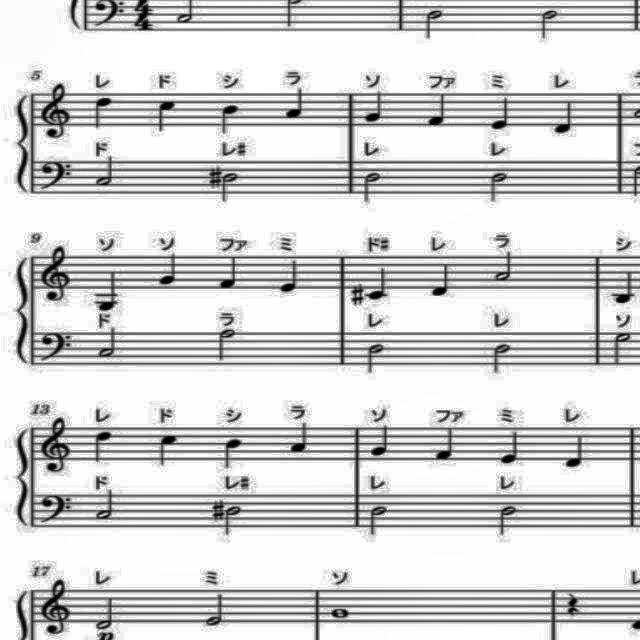Bass-clef: (33, 328, 79, 372), (32, 488, 76, 532), (40, 151, 80, 195)
Diez: (205, 161, 222, 191), (211, 496, 227, 526), (348, 284, 366, 308)
Full-note: (330, 604, 350, 624)
Half-note: (490, 245, 520, 287), (92, 488, 124, 526), (362, 500, 394, 538), (90, 592, 122, 630), (494, 500, 524, 540), (484, 168, 514, 206), (91, 323, 119, 362), (605, 330, 635, 366), (536, 5, 566, 40), (204, 592, 233, 628), (422, 6, 451, 42), (214, 324, 238, 364), (91, 152, 117, 188), (488, 337, 512, 375), (216, 166, 240, 202), (366, 341, 388, 379), (362, 168, 383, 204), (224, 501, 240, 541)
Quarter-note: (93, 266, 123, 318), (284, 418, 316, 458), (362, 260, 391, 304), (498, 428, 528, 470), (358, 88, 389, 128), (156, 248, 182, 292), (284, 85, 314, 123), (367, 422, 397, 460), (216, 254, 244, 294), (608, 268, 636, 308), (89, 426, 117, 466), (564, 431, 592, 471), (151, 95, 179, 134), (428, 262, 454, 304), (218, 100, 246, 138), (424, 91, 452, 129), (488, 96, 516, 134), (432, 426, 460, 464), (156, 428, 182, 467), (90, 95, 116, 133), (277, 259, 303, 297), (553, 96, 575, 138), (222, 436, 246, 472)
Quarter-rest: (562, 588, 584, 624)
Treble-clef: (34, 410, 74, 478), (38, 244, 78, 308), (38, 81, 78, 143), (39, 574, 77, 638)
